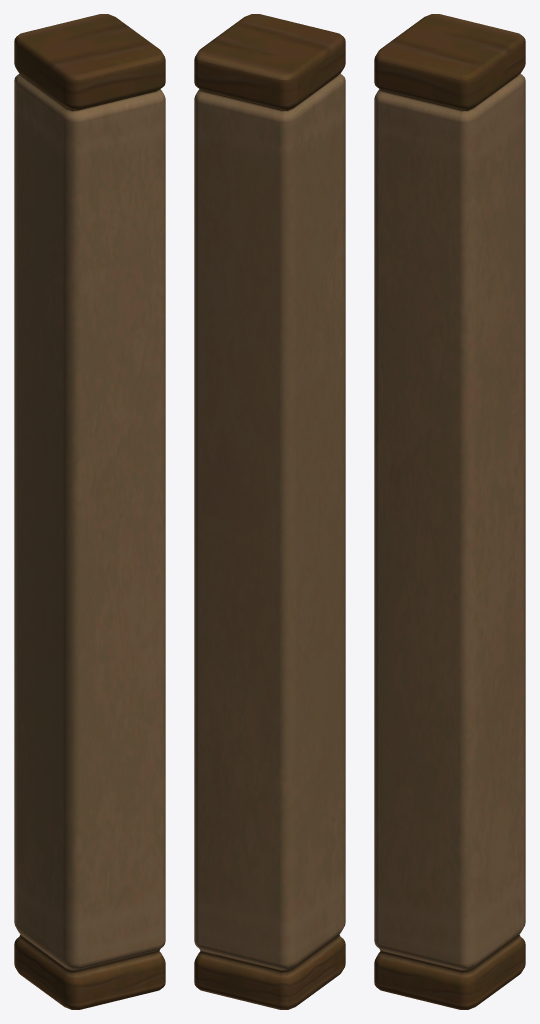
File: SM_VerticalColumn_02.gltf
The picture shows the model from 3 angles, left to right: view 1: azimuth 30°, elevation 25°; view 2: azimuth 150°, elevation 25°; view 3: azimuth 330°, elevation 25°; orthographic projection.
Parts seen in each view (by area): view 1: SM_VerticalColumn_02; view 2: SM_VerticalColumn_02; view 3: SM_VerticalColumn_02.
Boxes of the visible parts, x1,y1,x2,y2 form: SM_VerticalColumn_02: (14, 14, 165, 1009); SM_VerticalColumn_02: (194, 14, 345, 1009); SM_VerticalColumn_02: (374, 14, 525, 1009).
Size of the model in its own units: 0.448 by 4 by 0.48.
Materials: 1 (1 with a texture image).
